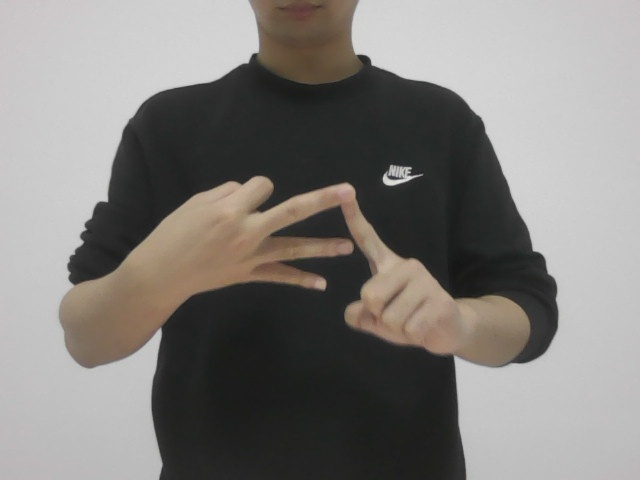name: (159, 173, 466, 356)
